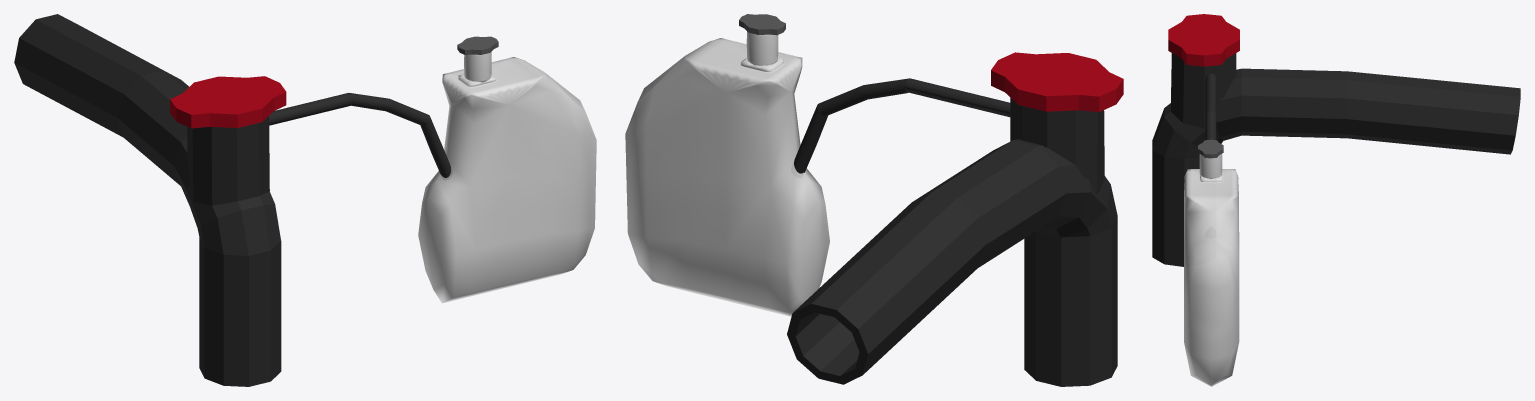
File: Coolant.fbx
3 renders of one model, left to right at view 1: azimuth 30°, elevation 25°; view 2: azimuth 150°, elevation 25°; view 3: azimuth 270°, elevation 25°, orthographic. The views are drawn at different scales.
Parts seen in each view (by area): view 1: pCylinder4, pCube2, pCylinder1, pCylinder2; view 2: pCylinder4, pCube2, pCylinder1, pCylinder2; view 3: pCylinder4, pCube2, pCylinder1, pCylinder2.
Boxes of the visible parts, x1,y1,x2,y2 form: pCylinder4: (14, 14, 450, 386); pCube2: (418, 52, 596, 303); pCylinder1: (170, 76, 286, 128); pCylinder2: (457, 36, 498, 54); pCylinder4: (787, 78, 1117, 386); pCube2: (625, 31, 829, 316); pCylinder1: (991, 52, 1123, 111); pCylinder2: (739, 14, 785, 35); pCylinder4: (1152, 53, 1520, 266); pCube2: (1184, 154, 1239, 386); pCylinder1: (1168, 14, 1239, 66); pCylinder2: (1198, 139, 1223, 158).
Size of the model in its own units: 11.79 by 7.13 by 10.92.
